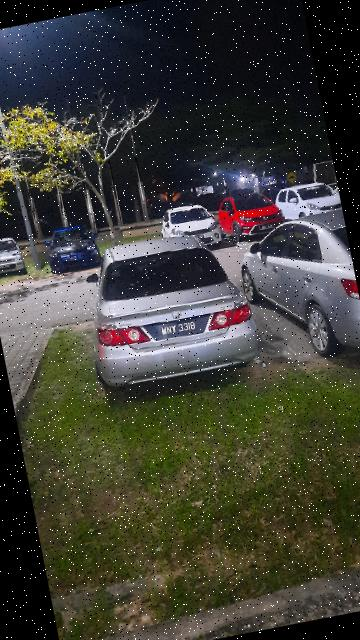License_Plate: (139, 312, 216, 347), (259, 224, 277, 232)
car: (74, 221, 264, 399), (232, 205, 360, 374), (214, 186, 291, 246), (158, 198, 225, 256), (41, 221, 106, 276), (274, 178, 344, 229), (1, 234, 31, 282)
